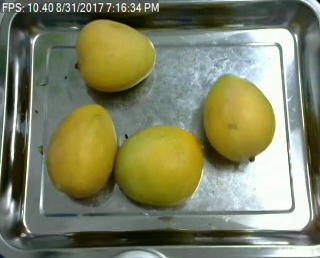Mango: (114, 125, 202, 204), (47, 104, 117, 193), (206, 71, 273, 159), (78, 19, 155, 86)
